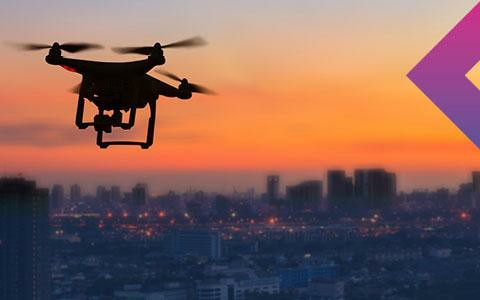maybay_khongnguoilai: (14, 33, 215, 143)
